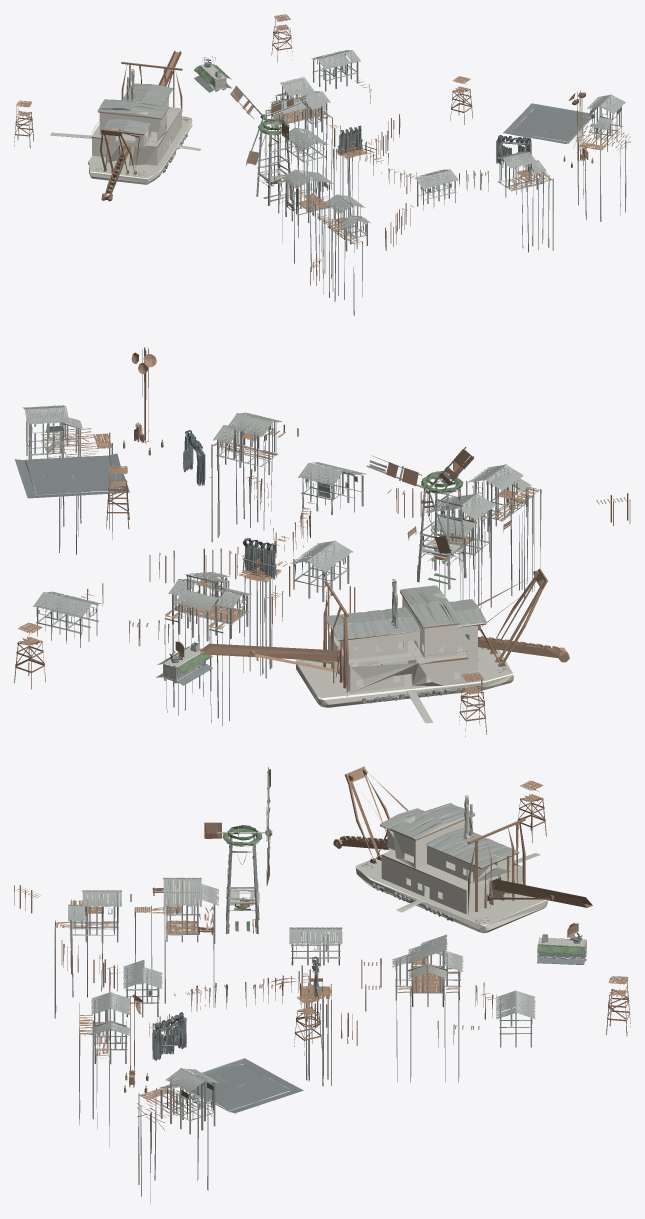
The model's file is bandit_town-map.glb.
The picture shows the model from 3 angles, top to bottom: view 1: azimuth 30°, elevation 25°; view 2: azimuth 150°, elevation 25°; view 3: azimuth 270°, elevation 25°; orthographic projection. The views are drawn at different scales.
Parts seen in each view (by area): view 1: wall.frame.shopfront.metal_LOD0, wooden_walkway_large_300_LOD0, wooden_walkway_large_edge_900_a_LOD0, antena_helipad_mast_LOD0, windmill_main_LOD0, dredge_body_LOD0; view 2: wall.frame.shopfront.metal_LOD0, wooden_walkway_large_300_LOD0, antena_helipad_mast_LOD0, wooden_walkway_large_edge_900_a_LOD0, dredge_body_LOD0, windmill_main_LOD0; view 3: wall.frame.shopfront.metal_LOD0, wooden_walkway_large_300_LOD0, antena_helipad_mast_LOD0, wooden_walkway_large_edge_900_a_LOD0, dredge_body_LOD0, windmill_main_LOD0.
Part boxes in pixels (<box>): wall.frame.shopfront.metal_LOD0: <box>88,50,626,315</box>; wooden_walkway_large_300_LOD0: <box>14,14,630,285</box>; wooden_walkway_large_edge_900_a_LOD0: <box>50,58,625,244</box>; antena_helipad_mast_LOD0: <box>92,84,181,165</box>; windmill_main_LOD0: <box>194,63,289,201</box>; dredge_body_LOD0: <box>89,122,192,184</box>; wall.frame.shopfront.metal_LOD0: <box>15,405,541,726</box>; wooden_walkway_large_300_LOD0: <box>14,347,630,736</box>; antena_helipad_mast_LOD0: <box>138,344,486,692</box>; wooden_walkway_large_edge_900_a_LOD0: <box>19,444,630,723</box>; dredge_body_LOD0: <box>296,648,513,707</box>; windmill_main_LOD0: <box>157,471,465,673</box>; wall.frame.shopfront.metal_LOD0: <box>54,767,586,1203</box>; wooden_walkway_large_300_LOD0: <box>14,766,630,1130</box>; antena_helipad_mast_LOD0: <box>134,814,522,994</box>; wooden_walkway_large_edge_900_a_LOD0: <box>54,795,586,1113</box>; dredge_body_LOD0: <box>355,867,547,933</box>; windmill_main_LOD0: <box>222,825,586,954</box>.
Size of the model in its own units: 131 by 48.34 by 116.
